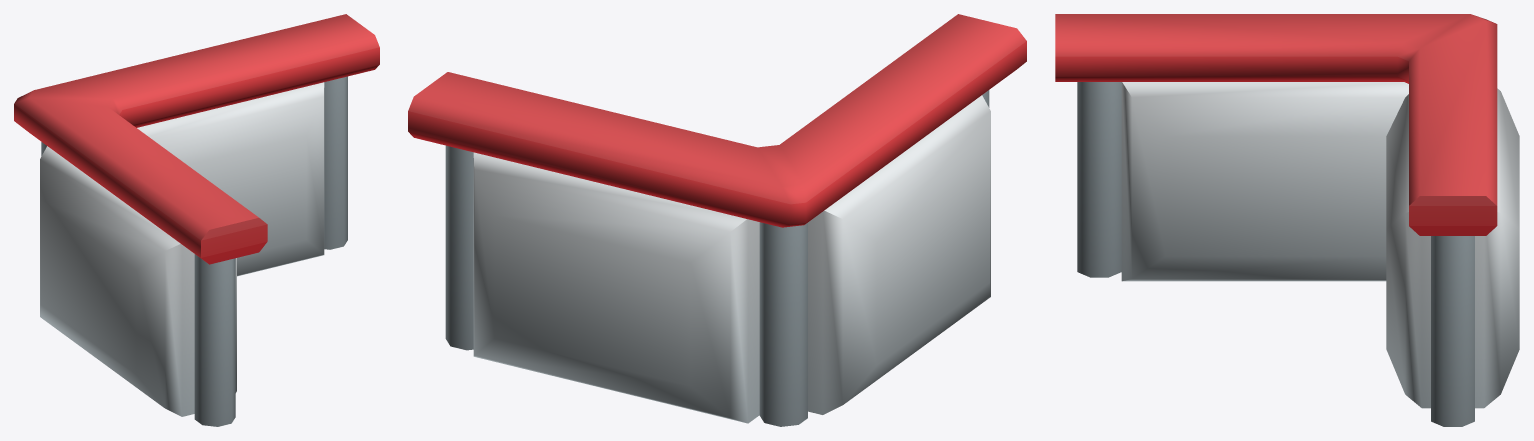
Rendered from railing_corner_padded_red.glb.
The picture shows the model from 3 angles, left to right: view 1: azimuth 30°, elevation 25°; view 2: azimuth 150°, elevation 25°; view 3: azimuth 270°, elevation 25°; orthographic projection. The views are drawn at different scales.
Visible parts, largest first — view 1: railing_corner_padded_red; view 2: railing_corner_padded_red; view 3: railing_corner_padded_red.
Part boxes in pixels (x1,y1,x2,y2): railing_corner_padded_red: (14,14,379,426); railing_corner_padded_red: (408,14,1026,426); railing_corner_padded_red: (1055,14,1519,426).
Size of the model in its own units: 2.1 by 1.2 by 2.1.
Materials: 1 (1 with a texture image).
